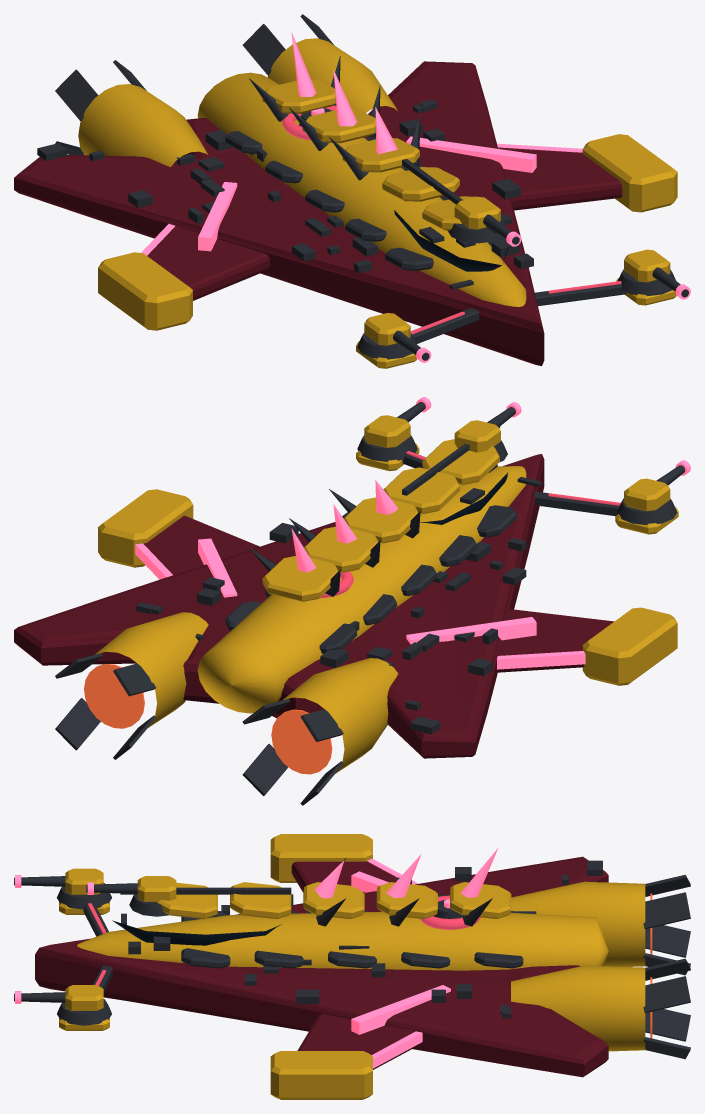
File: ship_nova_ember.glb
3 views of the same model, one above another, from view 1: azimuth 30°, elevation 25°; view 2: azimuth 150°, elevation 25°; view 3: azimuth 270°, elevation 25° (orthographic). The views are drawn at different scales.
Parts seen in each view (by area): view 1: primary, secondary, trim, accent, glass, glow; view 2: secondary, primary, trim, accent, engine, glow; view 3: secondary, primary, trim, accent, glass, glow.
Boxes of the visible parts, bbox=[...] form: primary: bbox=[14, 61, 622, 365]; secondary: bbox=[78, 38, 677, 368]; trim: bbox=[37, 14, 688, 360]; accent: bbox=[141, 32, 690, 362]; glass: bbox=[394, 210, 507, 271]; glow: bbox=[282, 105, 621, 334]; secondary: bbox=[95, 415, 678, 773]; primary: bbox=[14, 454, 614, 758]; trim: bbox=[55, 402, 685, 805]; accent: bbox=[135, 397, 690, 669]; engine: bbox=[84, 664, 332, 774]; glow: bbox=[320, 451, 620, 598]; secondary: bbox=[59, 834, 645, 1099]; primary: bbox=[35, 856, 608, 1077]; trim: bbox=[14, 857, 690, 1059]; accent: bbox=[15, 848, 497, 1068]; glass: bbox=[112, 920, 281, 945]; glow: bbox=[88, 895, 480, 985].
Bounding box in the file's own units: 2.96 × 0.9282 × 3.55.
